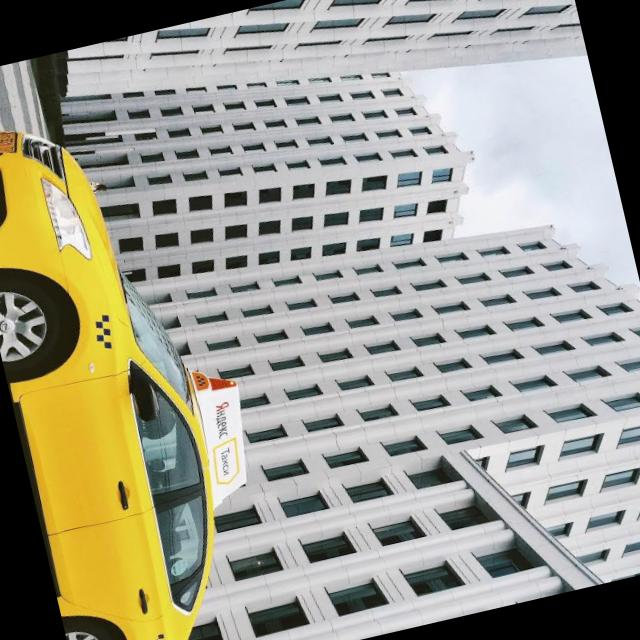taxi: (1, 89, 301, 640)
